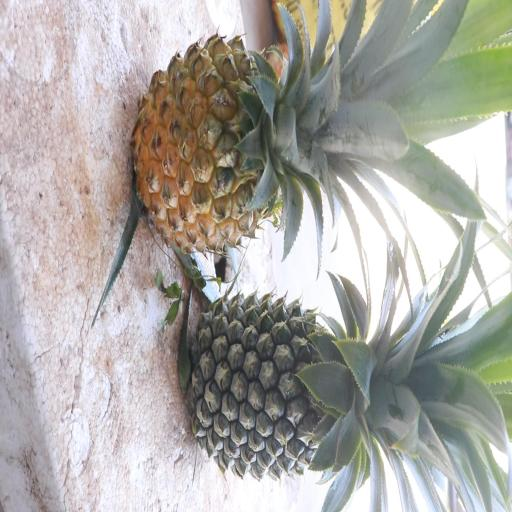Pineapple - v8 v1: (131, 31, 444, 262)
